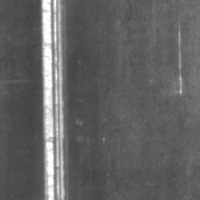scratches: (39, 1, 71, 200)
